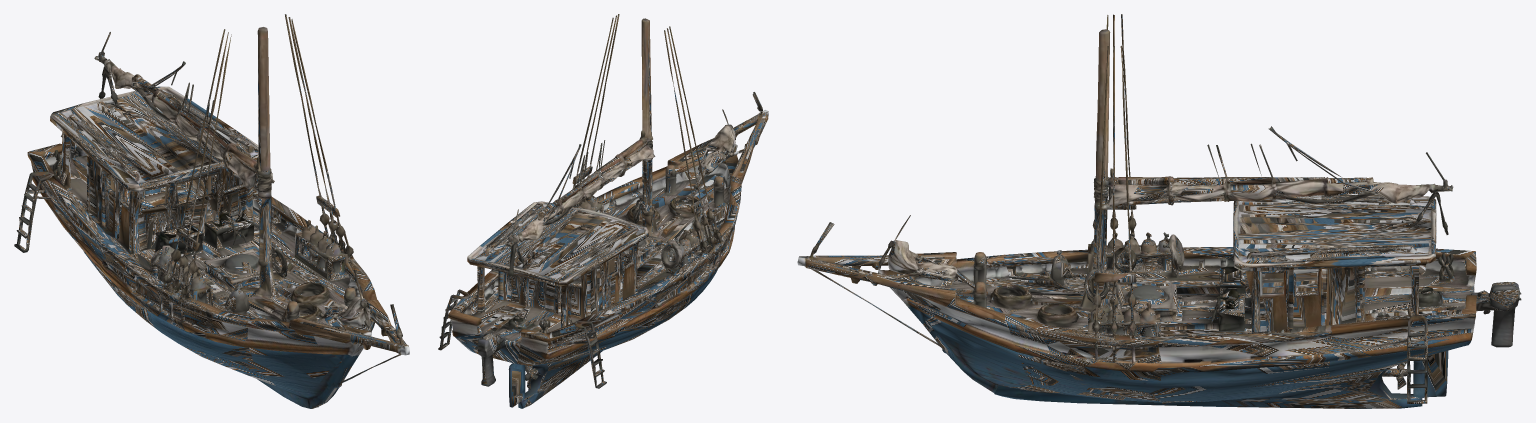
File: duikboot.glb
3 views of the same model, side by side, from view 1: azimuth 30°, elevation 25°; view 2: azimuth 150°, elevation 25°; view 3: azimuth 270°, elevation 25° (orthographic). The views are drawn at different scales.
Visible parts, largest first — view 1: tripo_node_b67aca28-6dc3-4376-a00f-ce3822049e44; view 2: tripo_node_b67aca28-6dc3-4376-a00f-ce3822049e44; view 3: tripo_node_b67aca28-6dc3-4376-a00f-ce3822049e44.
Boxes of the visible parts, x1,y1,x2,y2 form: tripo_node_b67aca28-6dc3-4376-a00f-ce3822049e44: [14, 14, 409, 408]; tripo_node_b67aca28-6dc3-4376-a00f-ce3822049e44: [438, 14, 768, 408]; tripo_node_b67aca28-6dc3-4376-a00f-ce3822049e44: [797, 14, 1521, 408].
Size of the model in its own units: 1.41 by 2.5 by 4.35.
Materials: 1 (1 with a texture image).
